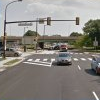crosswalk: (25, 56, 92, 62), (41, 52, 83, 54)
